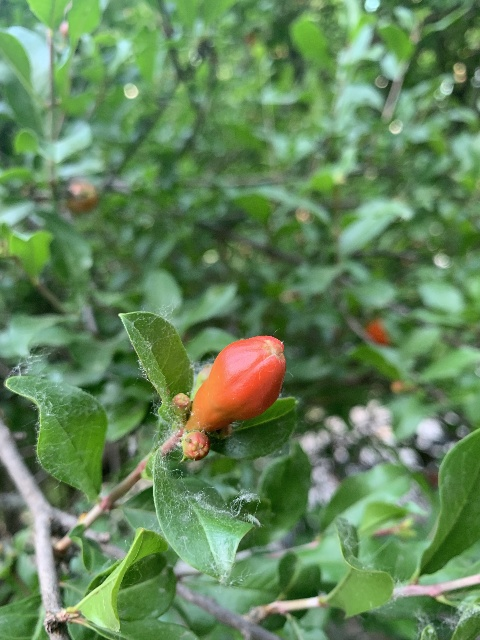bud: (189, 334, 286, 434), (182, 430, 210, 460)
